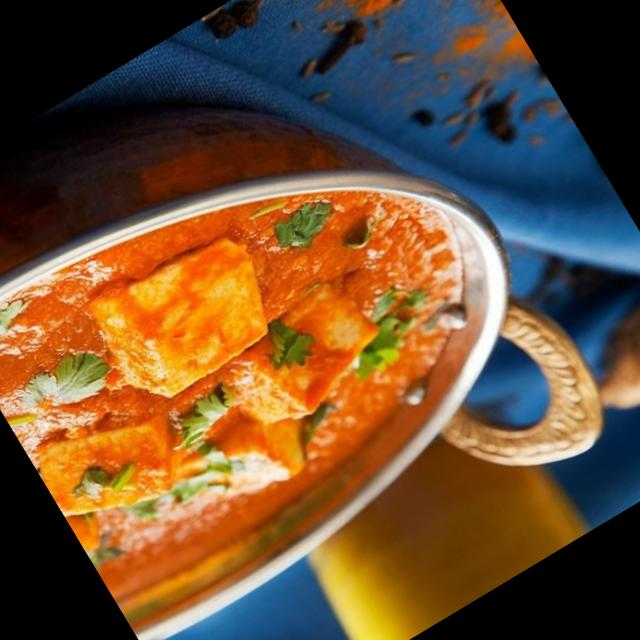ShahiPaneer: (0, 73, 543, 630)
